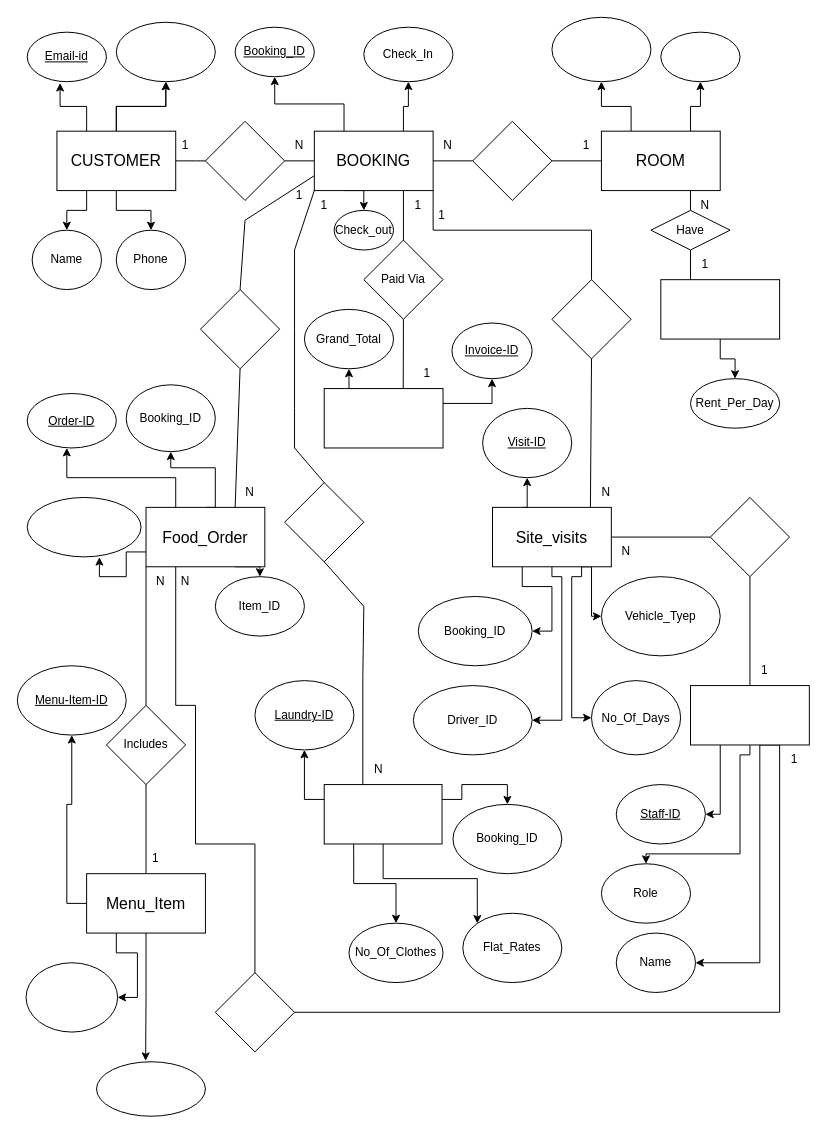
The diagram is 827 pixels wide and 1134 high, and some of its shapes have lost their labels. The centre of each missing label's shape, as x and y in pixels:
"Address" belongs at point 165,51.
"Booked" belongs at point 591,319.
"Drives" belongs at point 749,536.
"Invoice" belongs at point 383,418.
"Item_Name" belongs at point 71,997.
"Laundry_ Service" belongs at point 382,814.
"Makes" belongs at point 244,160.
"Orders" belongs at point 239,329.
"Price" belongs at point 150,1088.
"Requests" belongs at point 324,522.
"Reserves" belongs at point 512,160.
"Room-number" belongs at point 601,49.
"Room_Type" belongs at point 720,309.
"Serve_staff_ID" belongs at point 83,526.
"Serves" belongs at point 254,1012.
"Staff" belongs at point 749,715.
"Status" belongs at point 700,56.
